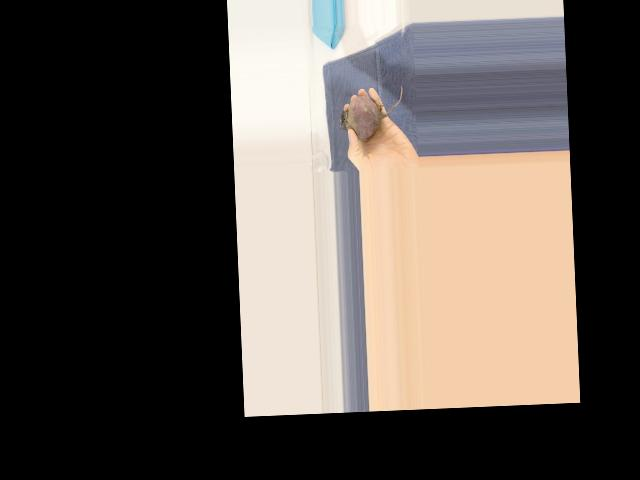beet: (338, 84, 404, 142)
